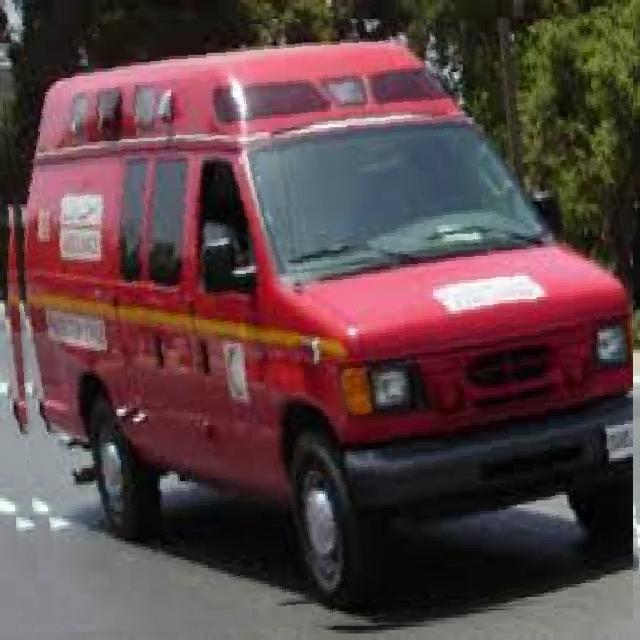ambulance: (0, 19, 633, 633)
